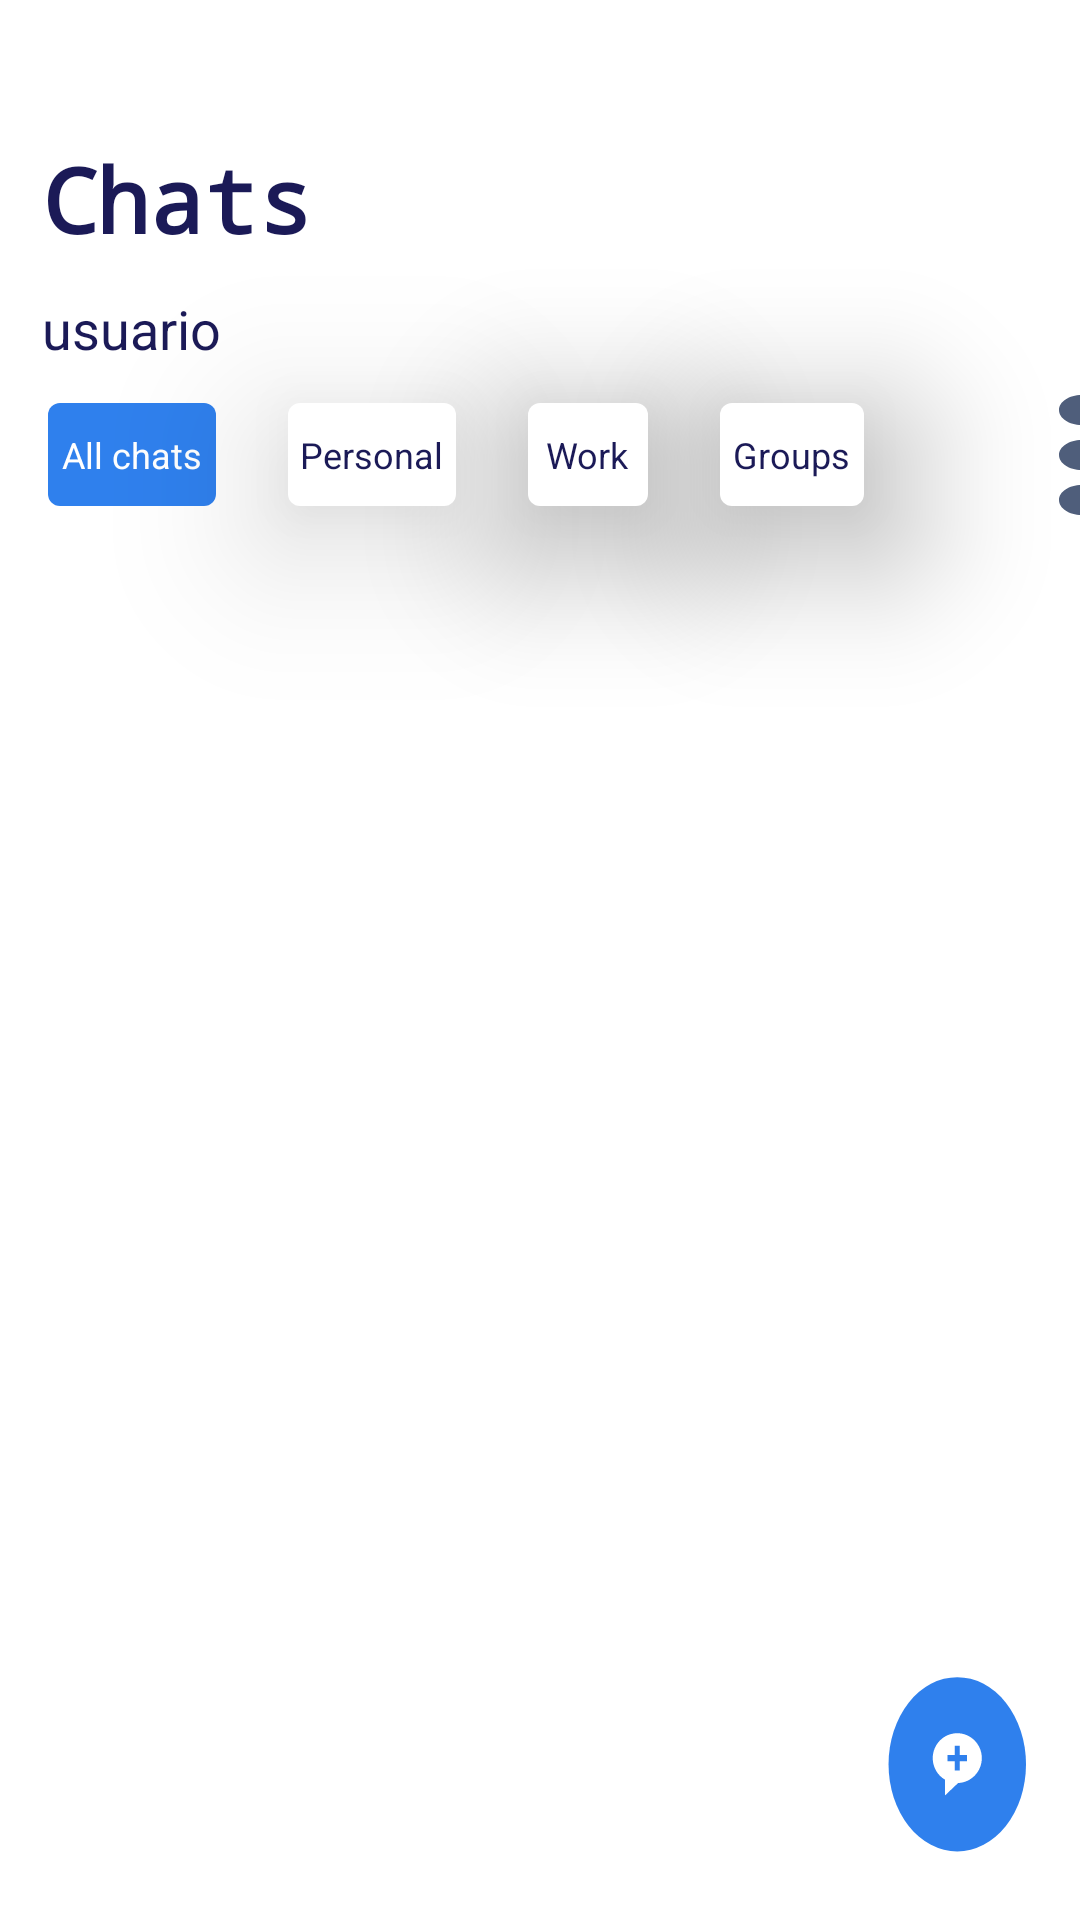

Locate icon controls on the screen. Image size 1080px x 1920px, boxes as bbox=[x1, y1, x2, y2].
mas: bbox=[888, 1677, 1026, 1852]
